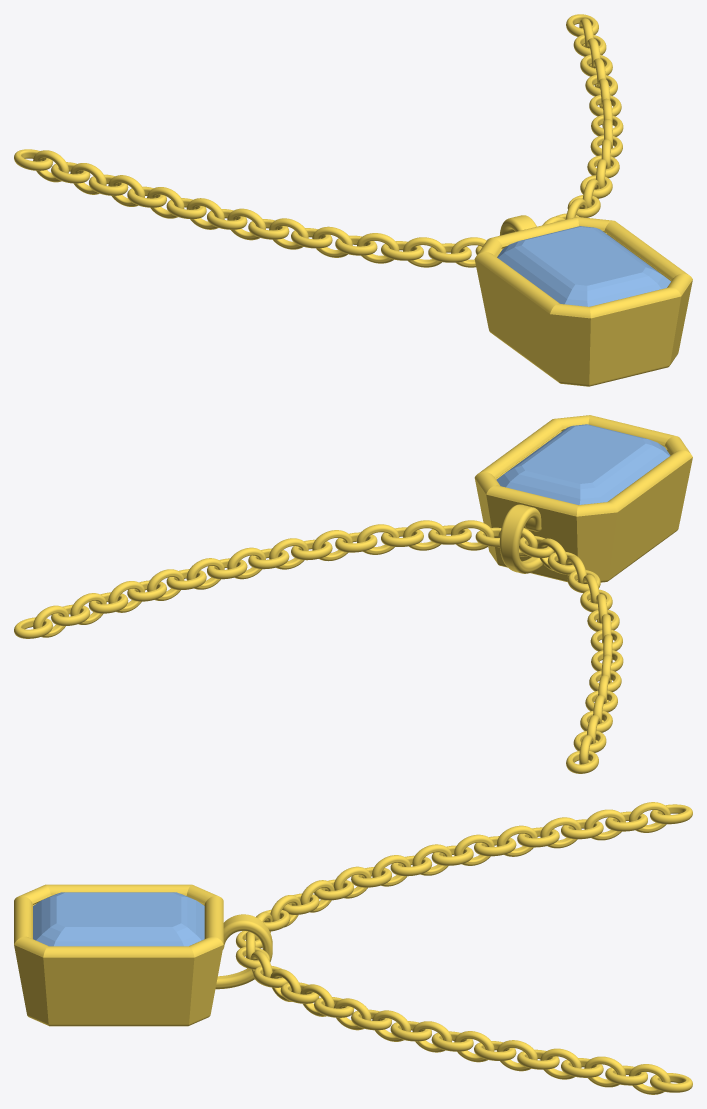
The picture shows the model from 3 angles, top to bottom: view 1: azimuth 30°, elevation 25°; view 2: azimuth 150°, elevation 25°; view 3: azimuth 270°, elevation 25°; orthographic projection.
Parts seen in each view (by area): view 1: SP-7-1.5CT SINGLE JOINT HALF CHAIN.3dm, Diamond_Emerald; view 2: SP-7-1.5CT SINGLE JOINT HALF CHAIN.3dm, Diamond_Emerald; view 3: SP-7-1.5CT SINGLE JOINT HALF CHAIN.3dm, Diamond_Emerald.
Boxes of the visible parts, x1,y1,x2,y2 form: SP-7-1.5CT SINGLE JOINT HALF CHAIN.3dm: (14,14,692,386); Diamond_Emerald: (497,226,670,306); SP-7-1.5CT SINGLE JOINT HALF CHAIN.3dm: (14,415,692,773); Diamond_Emerald: (496,424,670,504); SP-7-1.5CT SINGLE JOINT HALF CHAIN.3dm: (14,802,692,1094); Diamond_Emerald: (33,892,204,946).
Bounding box in the file's own units: 2.79 × 0.4083 × 2.83.
